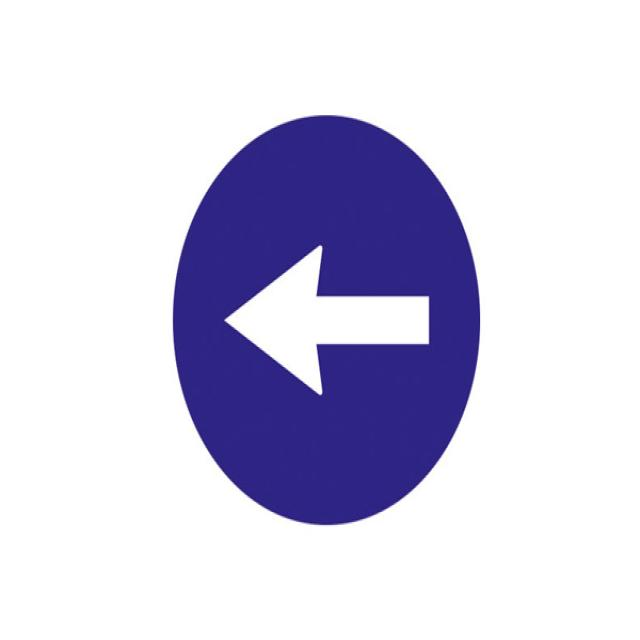SensObligatoire: (172, 113, 481, 528)
